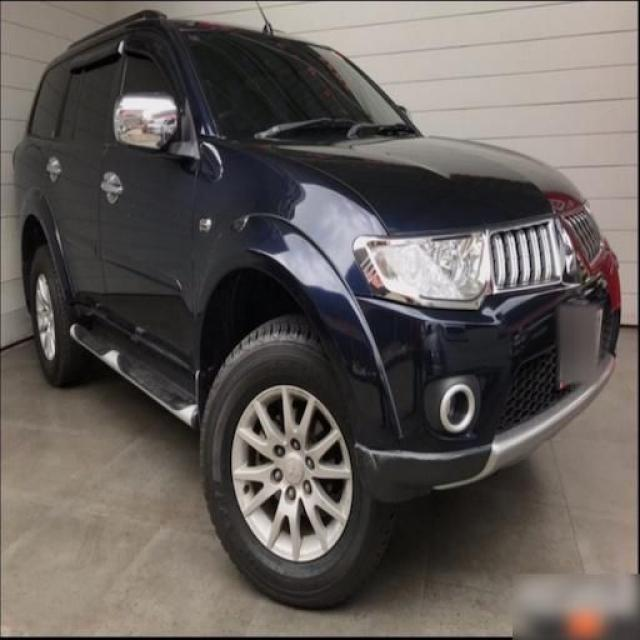back_right_door: (46, 32, 126, 320)
front_bumper: (355, 202, 623, 502)
front_glass: (179, 32, 421, 138)
front_right_door: (102, 32, 201, 366)
front_right_light: (354, 230, 492, 307)
hood: (232, 134, 585, 234)
right_mirror: (115, 92, 200, 157)
wheel: (200, 315, 395, 609), (30, 246, 102, 386)
